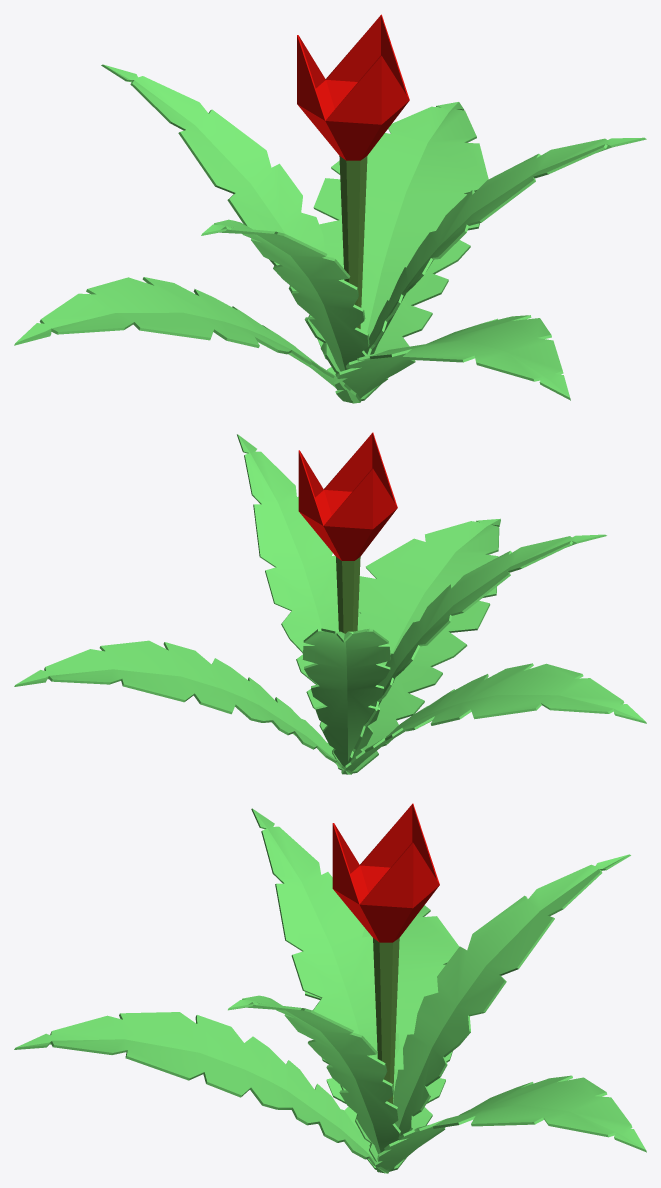
The model's file is leafes_1.fbx.
3 views of the same model, one above another, from view 1: azimuth 30°, elevation 25°; view 2: azimuth 150°, elevation 25°; view 3: azimuth 270°, elevation 25° (orthographic). The views are drawn at different scales.
Visible parts, largest first — view 1: leafes; view 2: leafes; view 3: leafes.
Part boxes in pixels (left/top/right/bottom): leafes: left=14, top=14, right=646, bottom=403; leafes: left=14, top=432, right=646, bottom=774; leafes: left=14, top=803, right=646, bottom=1173.
Bounding box in the file's own units: 874 × 528 × 864.
